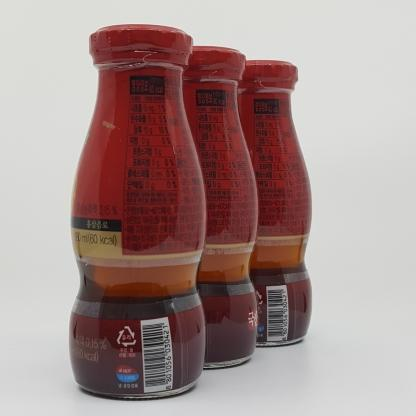------180ML: (68, 24, 206, 399), (143, 46, 258, 369)
